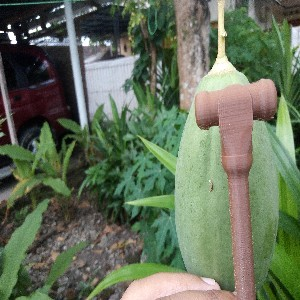palu: (194, 78, 277, 300)
